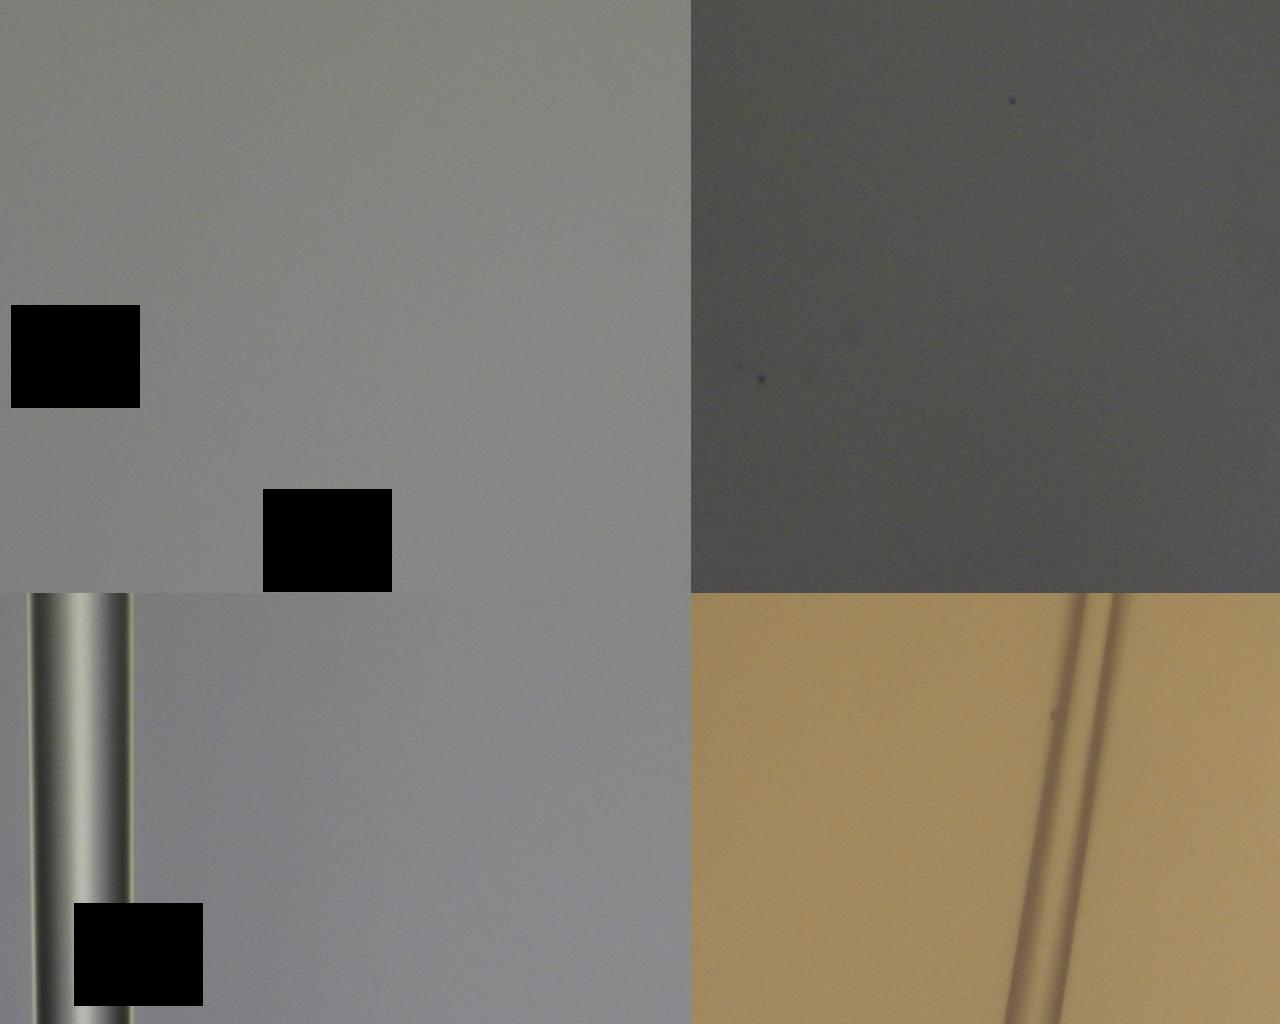fiber: (512, 0, 627, 1024)
